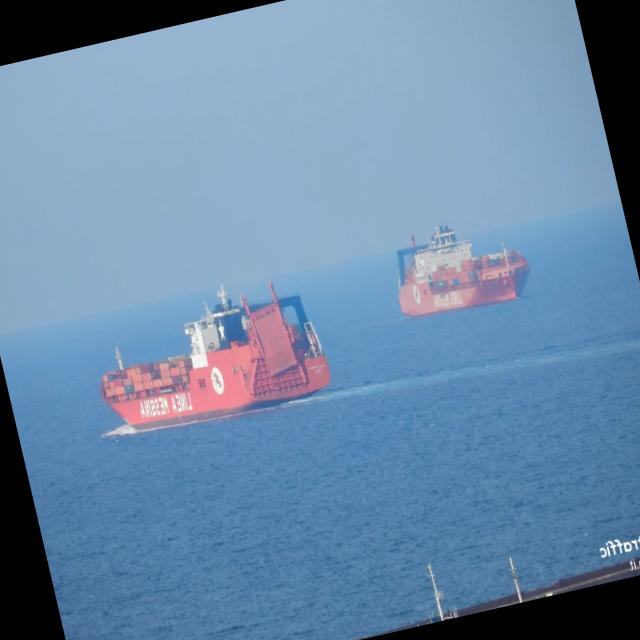Cargo: (100, 283, 330, 429), (397, 225, 530, 315)
